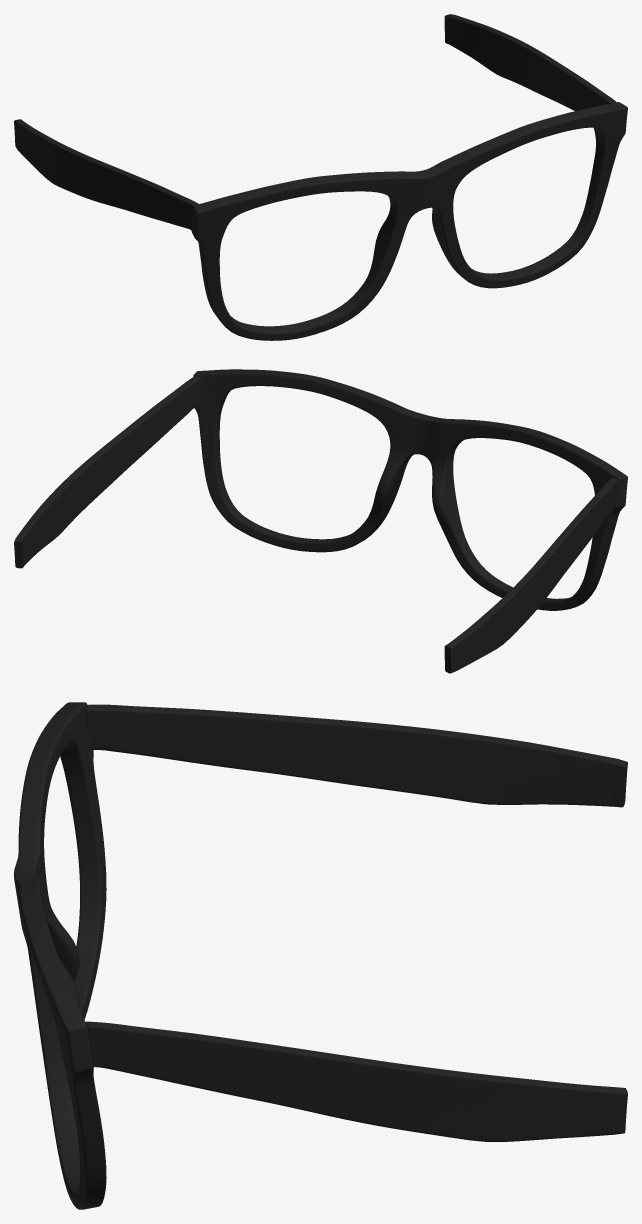
File: EnnioApp_alterado.glb
3 views of the same model, one above another, from view 1: azimuth 30°, elevation 25°; view 2: azimuth 150°, elevation 25°; view 3: azimuth 270°, elevation 25° (orthographic). The views are drawn at different scales.
Visible parts, largest first — view 1: armacao; view 2: armacao; view 3: armacao.
Part boxes in pixels (bbox=[...]): armacao: bbox=[14, 14, 627, 340]; armacao: bbox=[14, 369, 627, 673]; armacao: bbox=[14, 702, 627, 1209].
Bounding box in the file's own units: 0.1613 × 0.0558 × 0.1214.
Materials: 1 (1 with a texture image).
